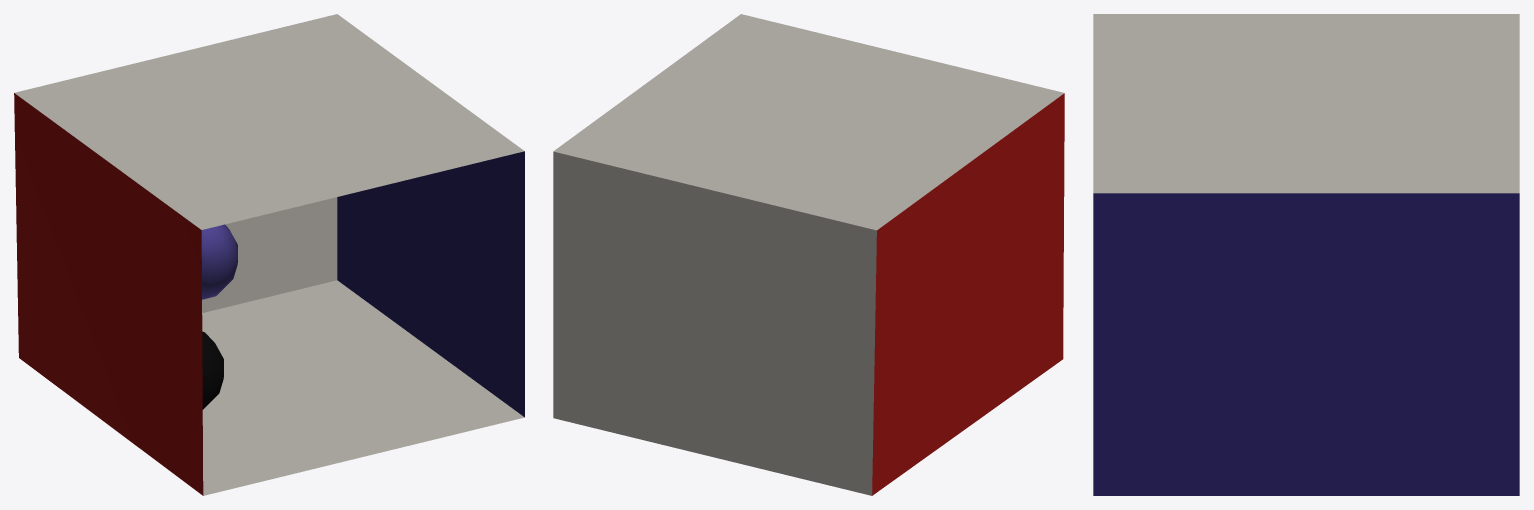
File: CornellBox-Sphere-810.obj
3 views of the same model, side by side, from view 1: azimuth 30°, elevation 25°; view 2: azimuth 150°, elevation 25°; view 3: azimuth 270°, elevation 25° (orthographic). The views are drawn at different scales.
Visible parts, largest first — view 1: ceiling, leftWall, floor, rightWall, backWall, leftSphere, rightSphere; view 2: backWall, ceiling, leftWall; view 3: rightWall, ceiling.
Boxes of the visible parts, x1,y1,x2,y2 form: ceiling: (14, 14, 524, 229); leftWall: (14, 93, 203, 495); floor: (202, 280, 524, 495); rightWall: (337, 151, 524, 417); backWall: (202, 197, 337, 312); leftSphere: (201, 224, 237, 299); rightSphere: (202, 331, 223, 409); backWall: (553, 151, 876, 495); ceiling: (553, 14, 1064, 230); leftWall: (872, 93, 1064, 495); rightWall: (1093, 193, 1519, 495); ceiling: (1093, 14, 1519, 193).
Size of the model in its own units: 2.02 by 1.59 by 2.03.
